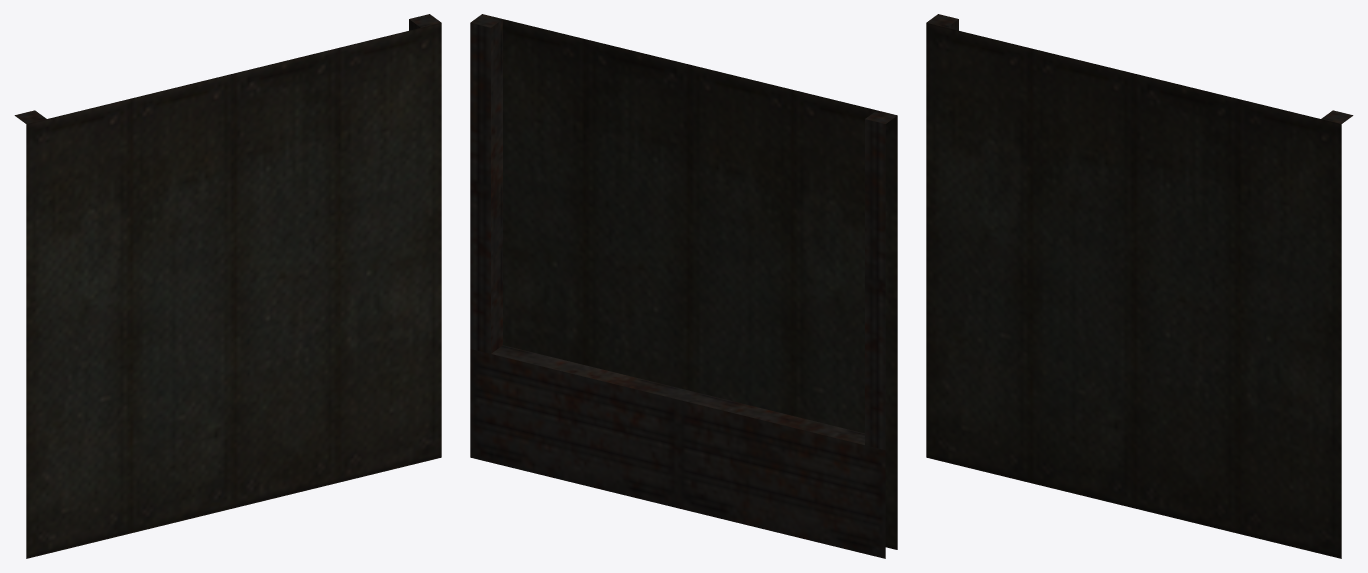
The model's file is wall_2.obj.
3 renders of one model, left to right at view 1: azimuth 30°, elevation 25°; view 2: azimuth 150°, elevation 25°; view 3: azimuth 330°, elevation 25°, orthographic.
Parts seen in each view (by area): view 1: wall_2; view 2: wall_2; view 3: wall_2.
Boxes of the visible parts, left/top/right/bottom form: wall_2: left=14, top=14, right=441, bottom=558; wall_2: left=470, top=14, right=897, bottom=558; wall_2: left=926, top=14, right=1353, bottom=558.
Size of the model in its own units: 2 by 2 by 0.1.
